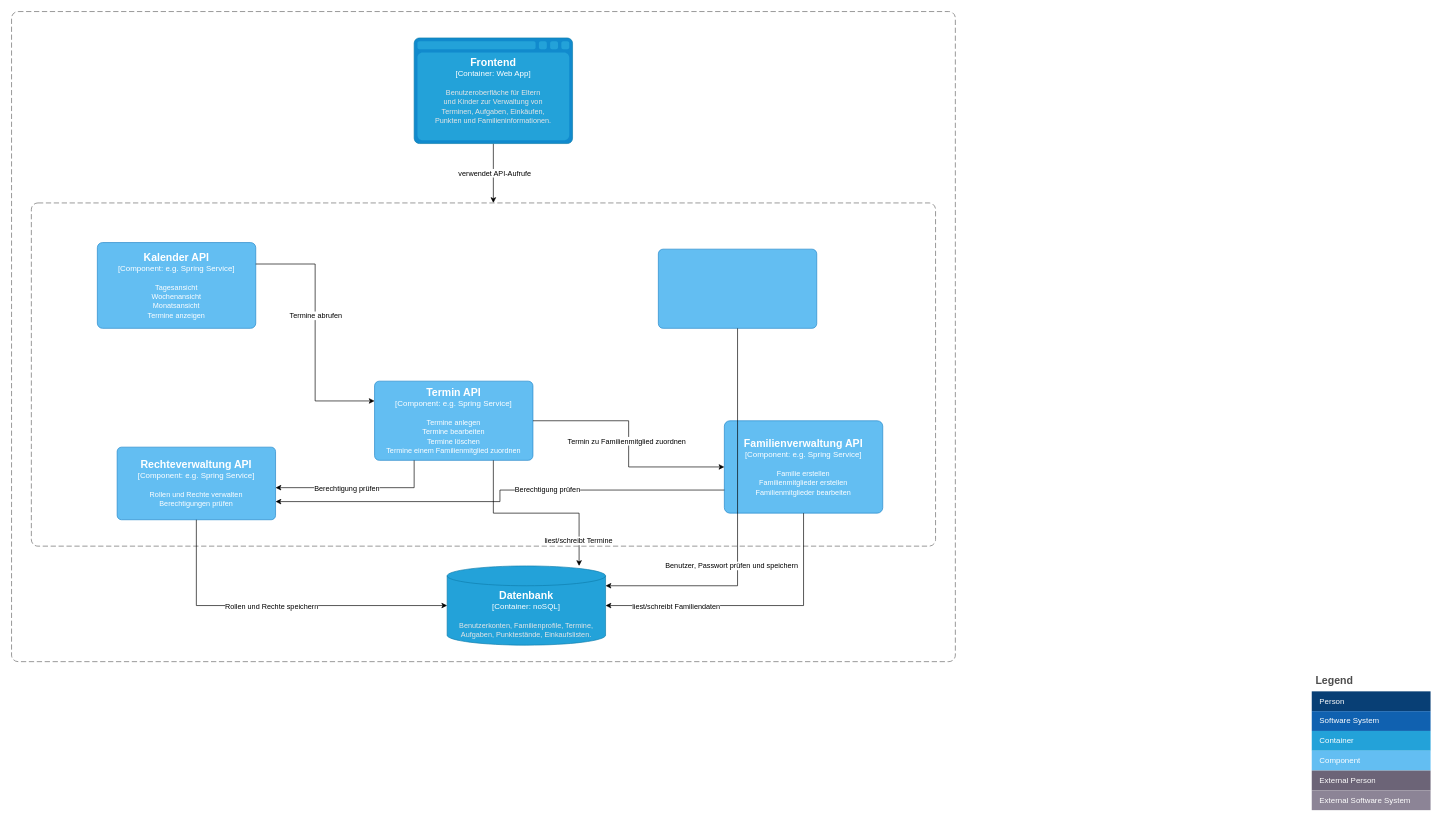
This 1442x822 diagram has some shape labels left out. Each missing label, with the box of its shape:
Anmeldung API [Component: e.g. Spring Service] Benutzer anmelden: (658, 248, 817, 328)
Backend [Container]: (31, 202, 936, 546)
FamilyHub AI [Software System]: (11, 11, 955, 662)
